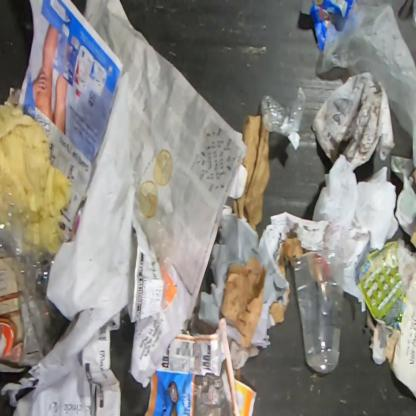cardboard: (0, 258, 29, 373)
rigid_plastic: (294, 248, 346, 374), (260, 87, 307, 152)
soft_plastic: (321, 0, 415, 169), (312, 153, 399, 313), (0, 186, 70, 366), (135, 208, 179, 270)
